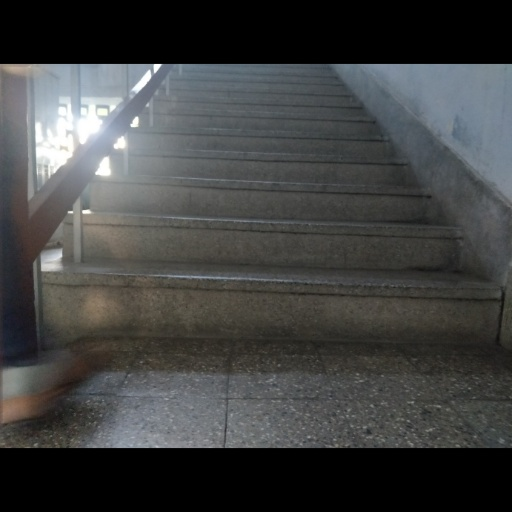Stairs: (43, 67, 500, 342)
